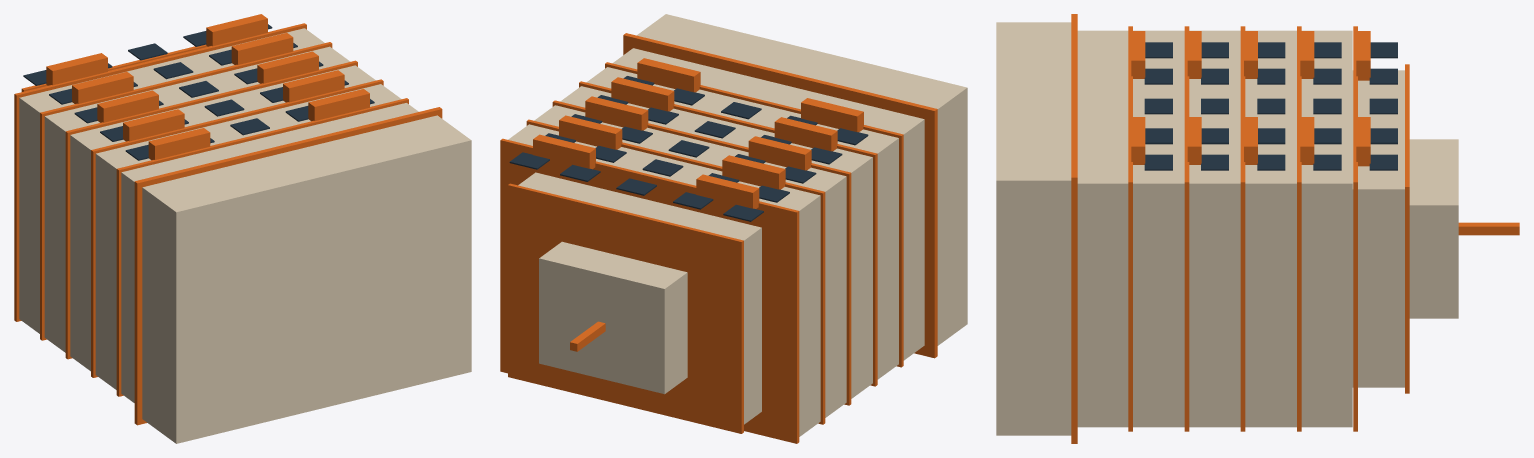
Rendered from marine_drive_art_deco.obj.
3 renders of one model, left to right at view 1: azimuth 30°, elevation 25°; view 2: azimuth 150°, elevation 25°; view 3: azimuth 270°, elevation 25°, orthographic. The views are drawn at different scales.
Visible parts, largest first — view 1: Mumbai_ArtDeco_Building; view 2: Mumbai_ArtDeco_Building; view 3: Mumbai_ArtDeco_Building.
Boxes of the visible parts, x1,y1,x2,y2 form: Mumbai_ArtDeco_Building: (14,14,471,443); Mumbai_ArtDeco_Building: (500,14,967,443); Mumbai_ArtDeco_Building: (996,14,1519,443).
Bounding box in the file's own units: 24.8 × 19.3 × 33.5.
